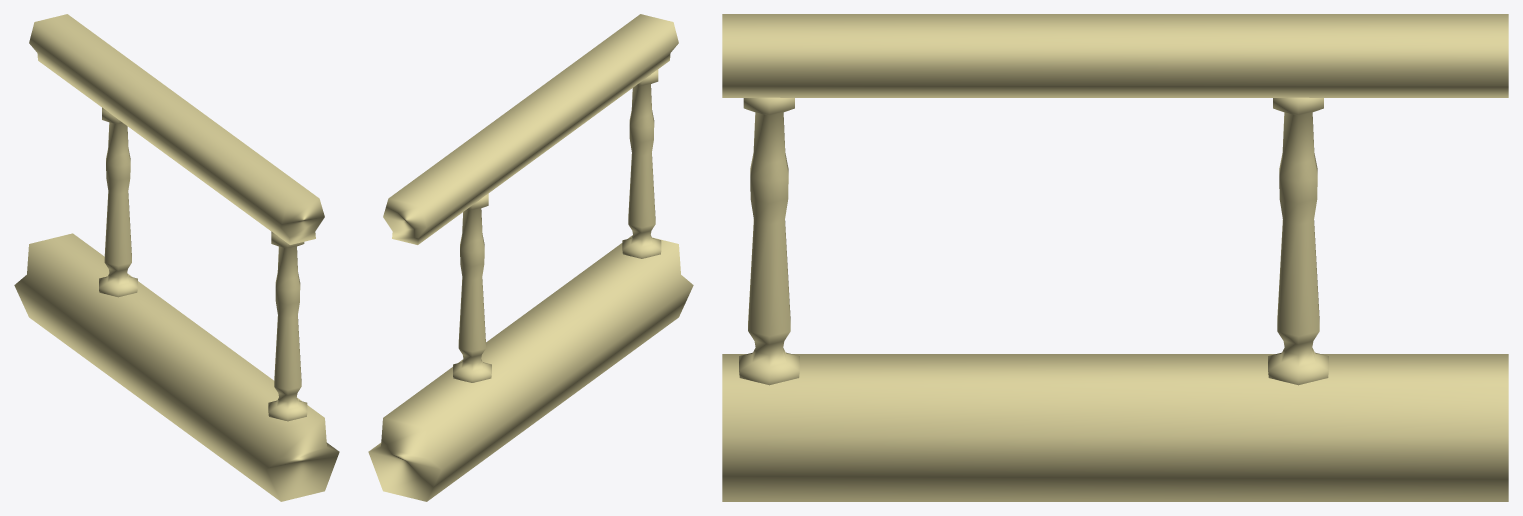
The model's file is Wood_Baluster_02_lod1.fbx.
The picture shows the model from 3 angles, left to right: view 1: azimuth 30°, elevation 25°; view 2: azimuth 150°, elevation 25°; view 3: azimuth 270°, elevation 25°; orthographic projection. The views are drawn at different scales.
Parts seen in each view (by area): view 1: Wood_Baluster_02_lod1; view 2: Wood_Baluster_02_lod1; view 3: Wood_Baluster_02_lod1.
Boxes of the visible parts, bbox=[...] form: Wood_Baluster_02_lod1: bbox=[14, 14, 339, 501]; Wood_Baluster_02_lod1: bbox=[368, 14, 693, 501]; Wood_Baluster_02_lod1: bbox=[722, 14, 1508, 501].
Size of the model in its own units: 25.19 by 96.53 by 150.
